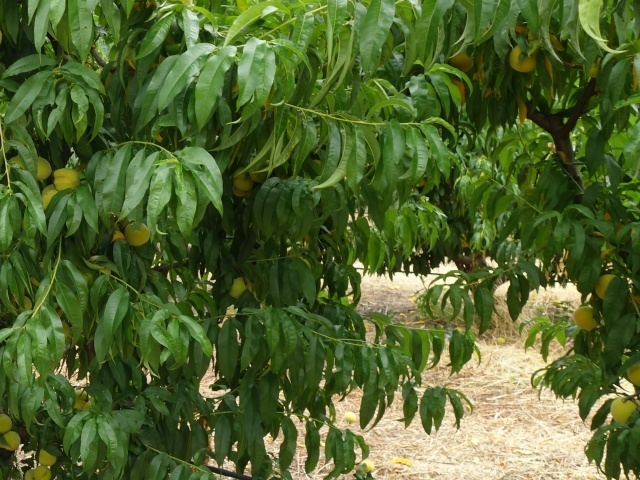peach: (504, 37, 538, 74), (123, 217, 156, 254), (51, 164, 84, 198), (609, 390, 639, 425), (571, 301, 601, 334), (448, 45, 478, 77), (596, 269, 624, 303), (225, 274, 256, 302), (232, 163, 259, 193), (38, 177, 69, 203), (28, 152, 55, 181), (32, 444, 61, 471), (1, 425, 23, 453), (26, 459, 56, 479), (624, 358, 640, 387), (1, 411, 16, 435)
